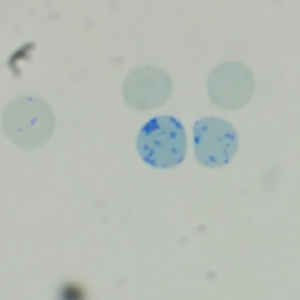aggregate reticulocyte: (133, 113, 189, 171), (190, 114, 242, 170)
erythrocyte: (1, 92, 58, 150), (204, 58, 256, 112)
punctate reticulocyte: (120, 63, 175, 114)
